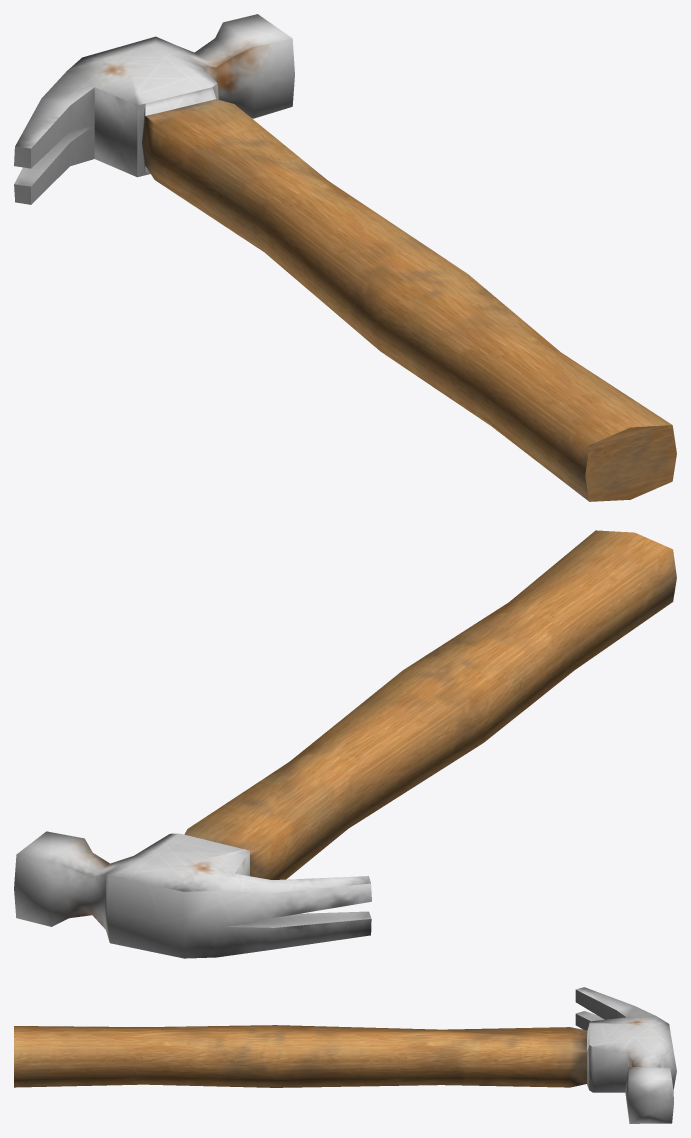
Rendered from hammer.fbx.
3 views of the same model, one above another, from view 1: azimuth 30°, elevation 25°; view 2: azimuth 150°, elevation 25°; view 3: azimuth 270°, elevation 25° (orthographic). The views are drawn at different scales.
Visible parts, largest first — view 1: hammer; view 2: hammer; view 3: hammer.
Part boxes in pixels (box(x1,y1,x2,y2)): hammer: box(14, 14, 676, 501); hammer: box(14, 530, 676, 958); hammer: box(14, 987, 676, 1123).
Bounding box in the file's own units: 0.1492 × 0.0373 × 0.4205.
